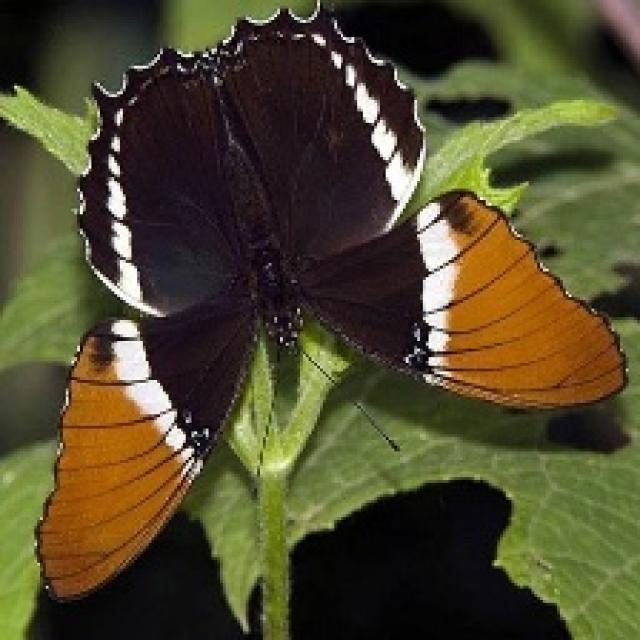butterfly: (31, 0, 628, 603)
